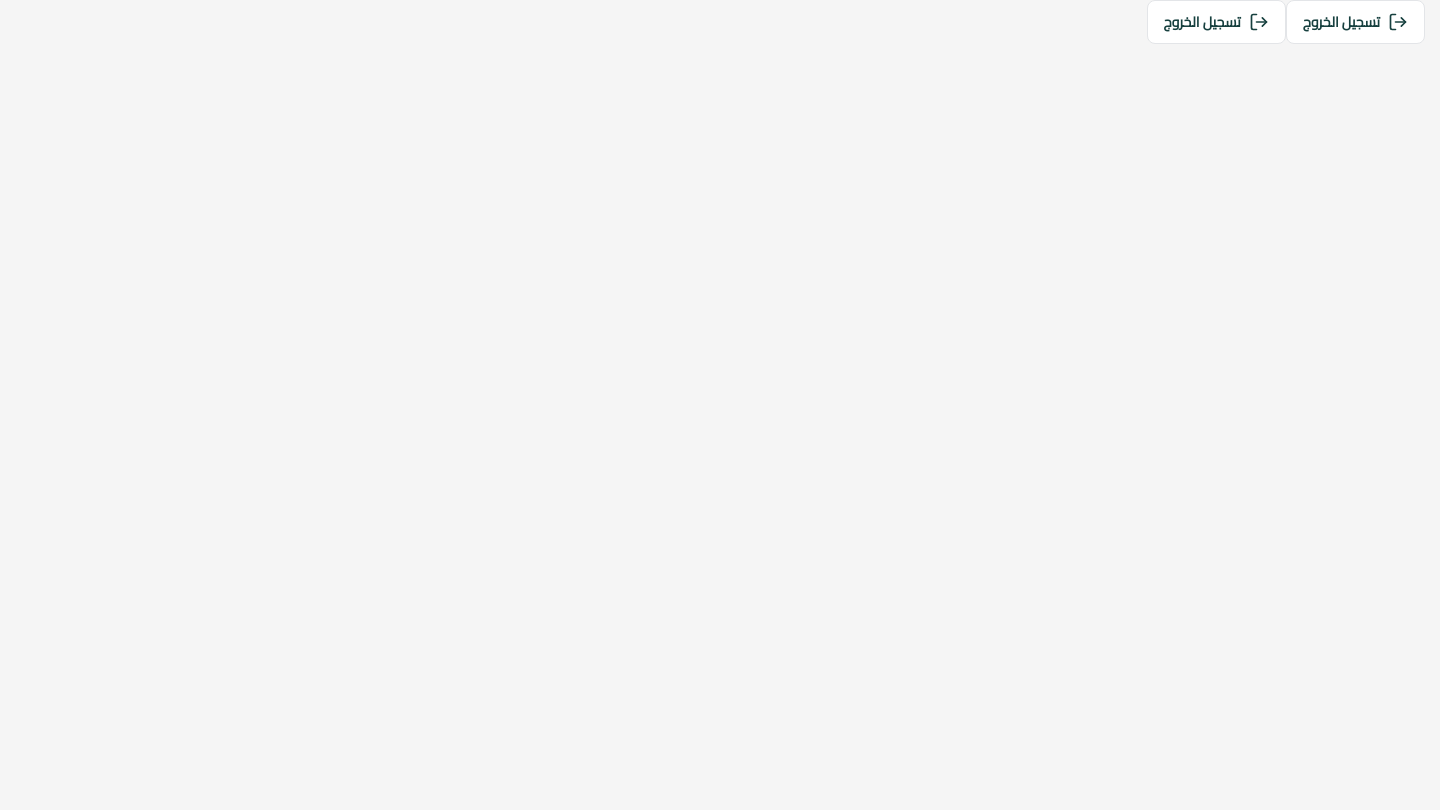
Scenario: uses the existing session logout action
Later steps or results of the test are not shown.
Click the 2nd button "تسجيل الخروج" at point(1355, 22), box top-left (1286, 0), bottom-right (1425, 44)
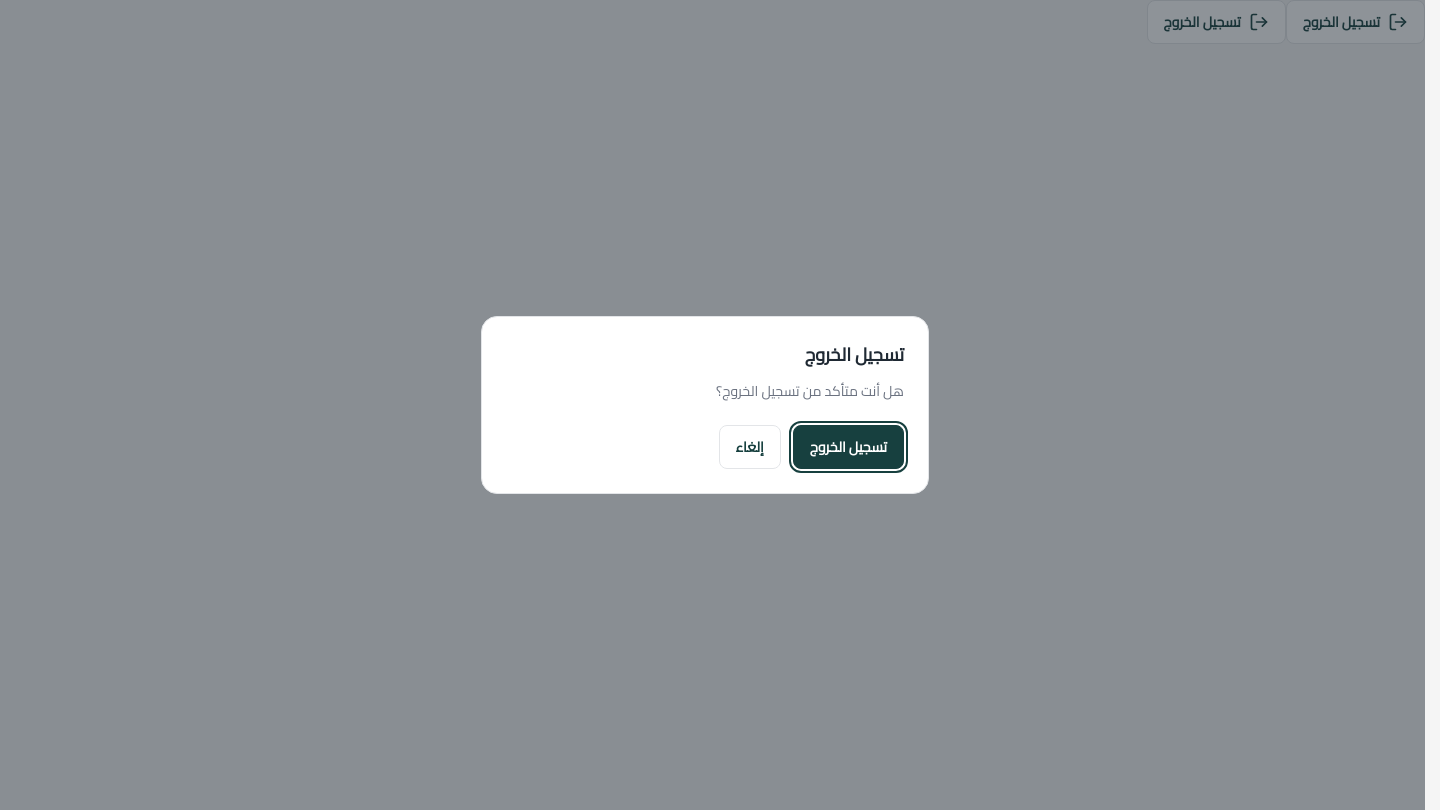
Check: the number of dialogs is 1, box top-left (481, 316), bottom-right (929, 494)
Check: the text "هل أنت متأكد من تسجيل الخروج؟" is shown, box top-left (716, 378), bottom-right (904, 404)
Click the button "إلغاء" at point(750, 447), box top-left (718, 425), bottom-right (781, 469)
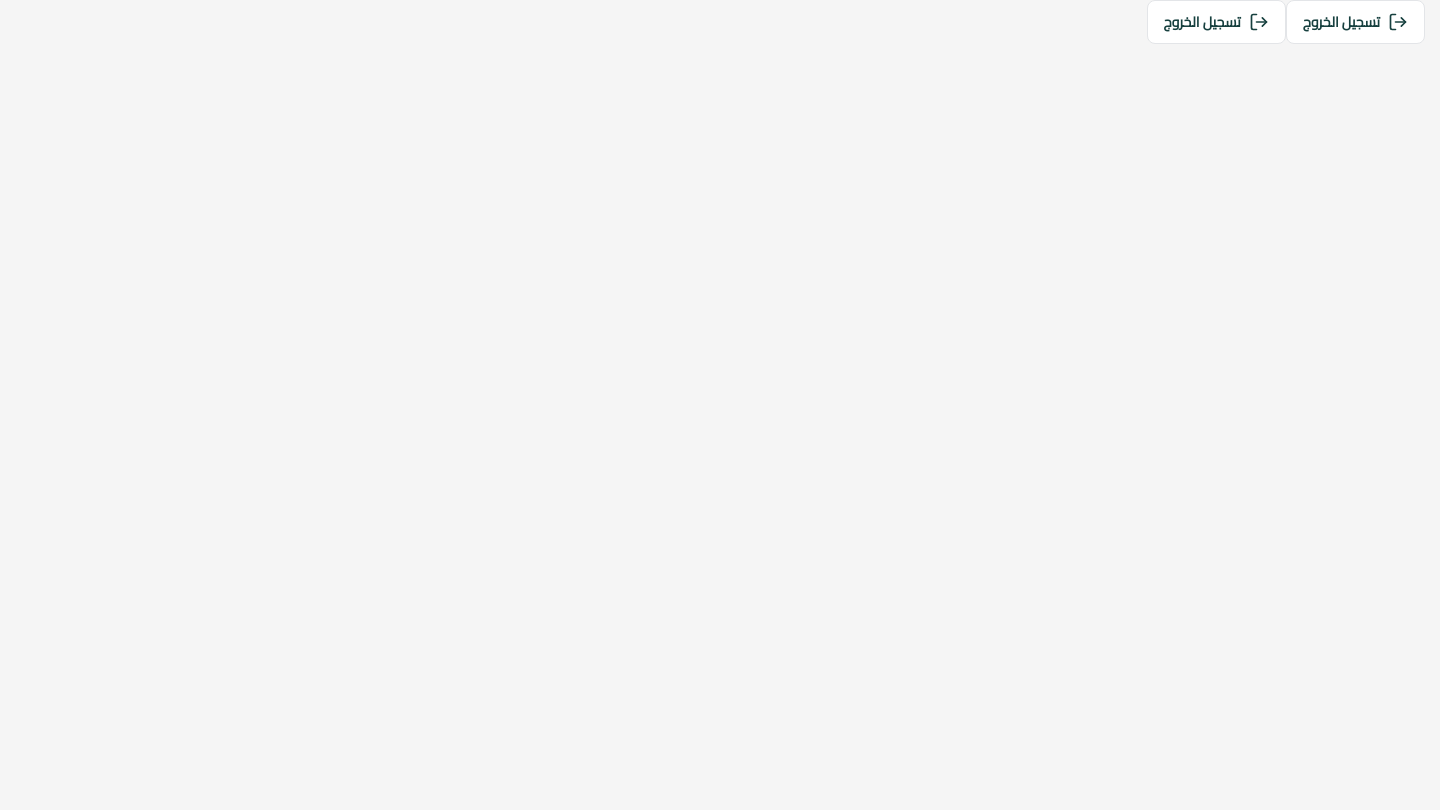
Check: the dialog is gone
